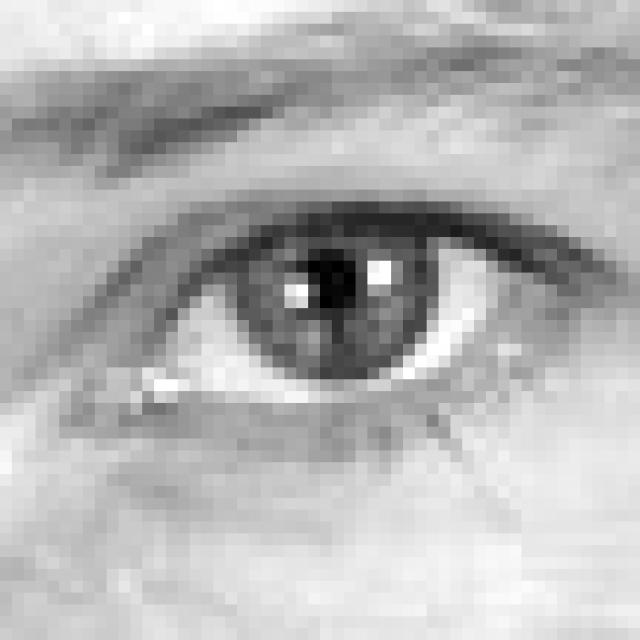eye: (26, 140, 626, 511)
gaze: (221, 194, 447, 391)
